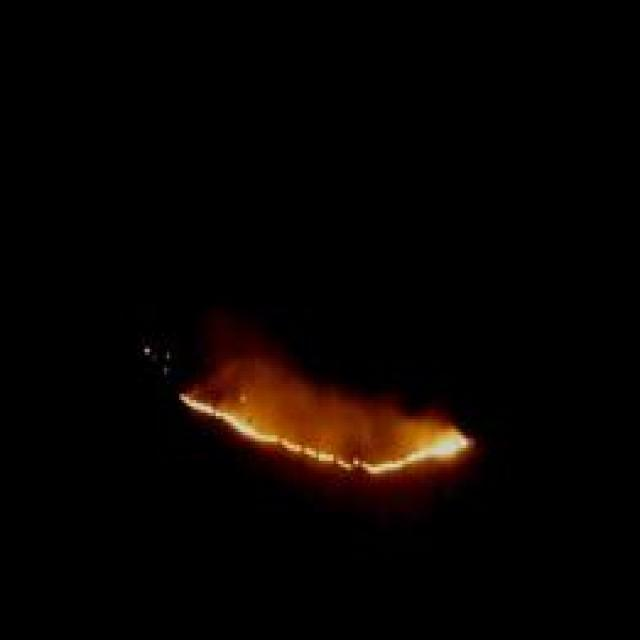Fire: (179, 392, 473, 478)
Smoke: (252, 393, 419, 448), (195, 351, 289, 402)
